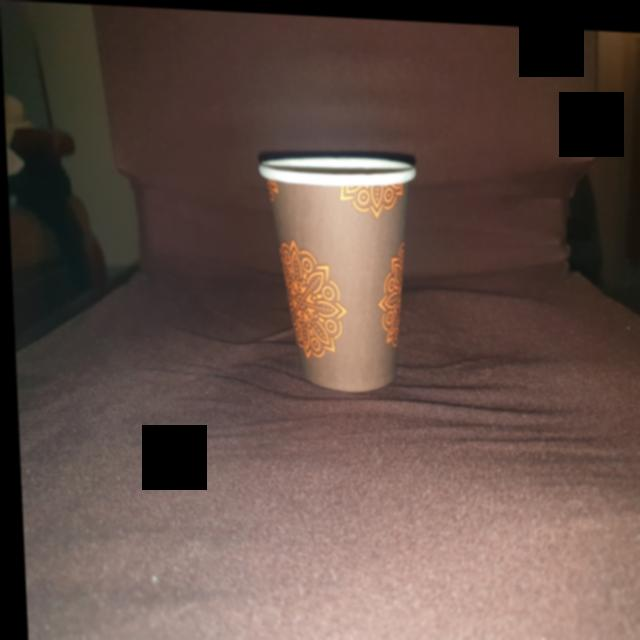cups: (252, 141, 429, 398)
